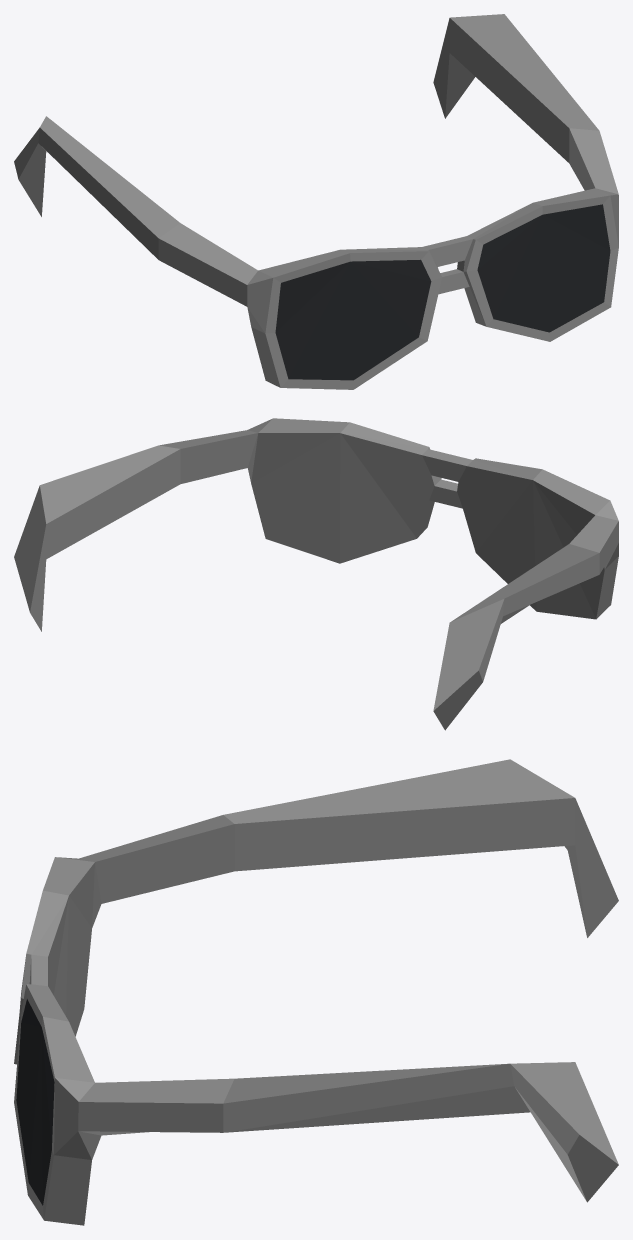
The model's file is SM_Chr_Attach_Glasses_01.fbx.
The picture shows the model from 3 angles, top to bottom: view 1: azimuth 30°, elevation 25°; view 2: azimuth 150°, elevation 25°; view 3: azimuth 270°, elevation 25°; orthographic projection. The views are drawn at different scales.
Parts seen in each view (by area): view 1: SM_Chr_Attach_Glasses_01; view 2: SM_Chr_Attach_Glasses_01; view 3: SM_Chr_Attach_Glasses_01.
Boxes of the visible parts, x1,y1,x2,y2 form: SM_Chr_Attach_Glasses_01: (14, 14, 618, 389); SM_Chr_Attach_Glasses_01: (14, 418, 618, 730); SM_Chr_Attach_Glasses_01: (14, 759, 618, 1225).
Bounding box in the file's own units: 24.5 × 8.43 × 20.58.
